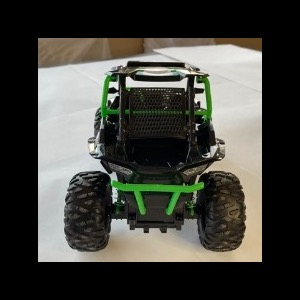polaris: (63, 60, 246, 253)
